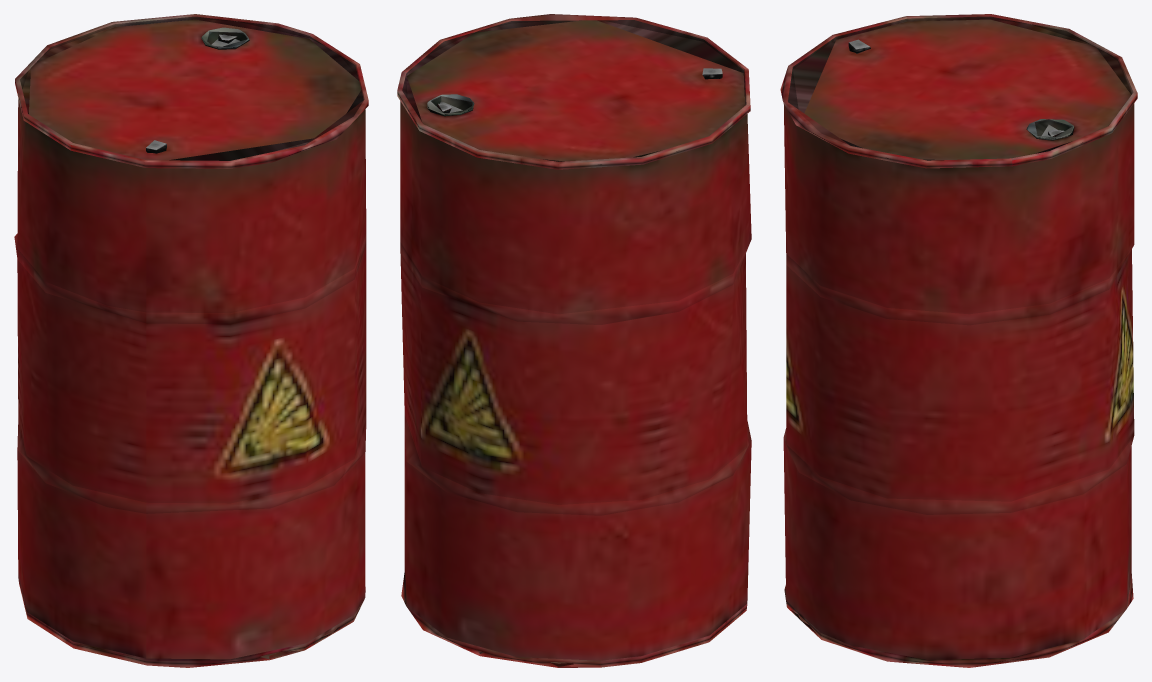
The model's file is barrel_01.glb.
3 views of the same model, side by side, from view 1: azimuth 30°, elevation 25°; view 2: azimuth 150°, elevation 25°; view 3: azimuth 270°, elevation 25° (orthographic).
Visible parts, largest first — view 1: Barrel_01; view 2: Barrel_01; view 3: Barrel_01.
Part boxes in pixels (x1,y1,x2,y2): Barrel_01: [14, 14, 368, 667]; Barrel_01: [397, 14, 751, 667]; Barrel_01: [780, 14, 1137, 667].
Size of the model in its own units: 0.5522 by 0.8789 by 0.5603.
1 material, 1 textured.
